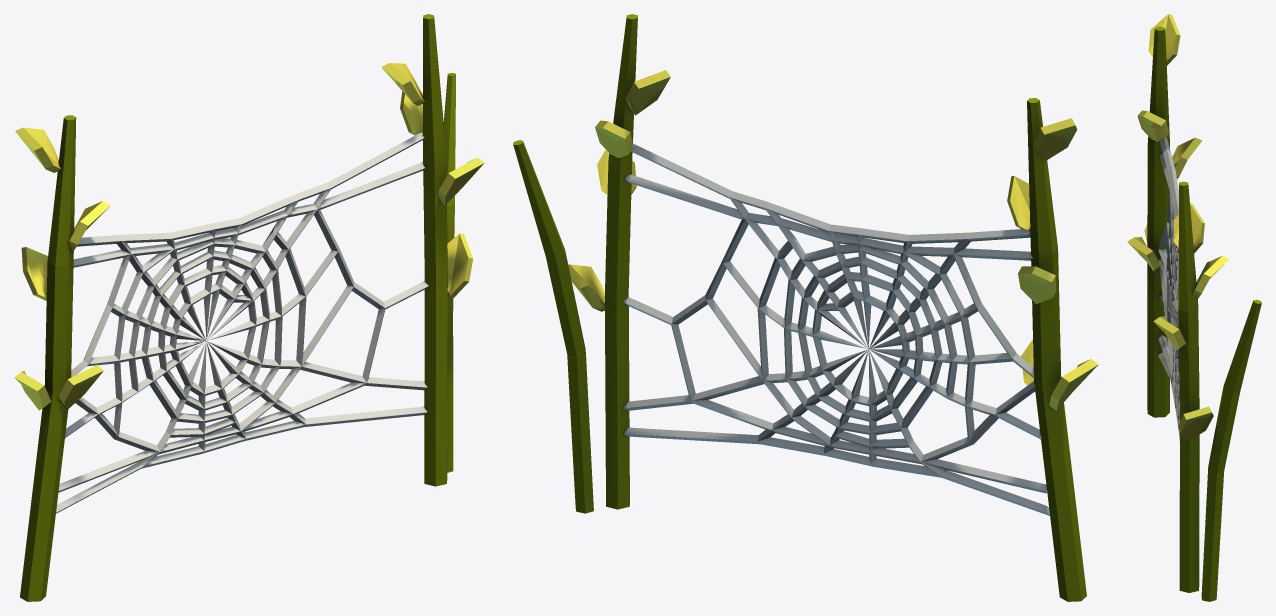
Rendered from PUSHILIN_Spider_web.obj.
The picture shows the model from 3 angles, left to right: view 1: azimuth 30°, elevation 25°; view 2: azimuth 150°, elevation 25°; view 3: azimuth 270°, elevation 25°; orthographic projection. The views are drawn at different scales.
Visible parts, largest first — view 1: Spider_web; view 2: Spider_web; view 3: Spider_web.
Part boxes in pixels (left/top/right/bottom): Spider_web: left=14, top=14, right=484, bottom=601; Spider_web: left=513, top=14, right=1098, bottom=601; Spider_web: left=1127, top=14, right=1261, bottom=601.
Size of the model in its own units: 2.29 by 2.05 by 0.6236.
1 material, 1 textured.
